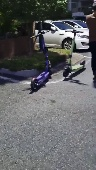beam: (28, 28, 56, 92)
gcooter: (62, 28, 87, 79)
